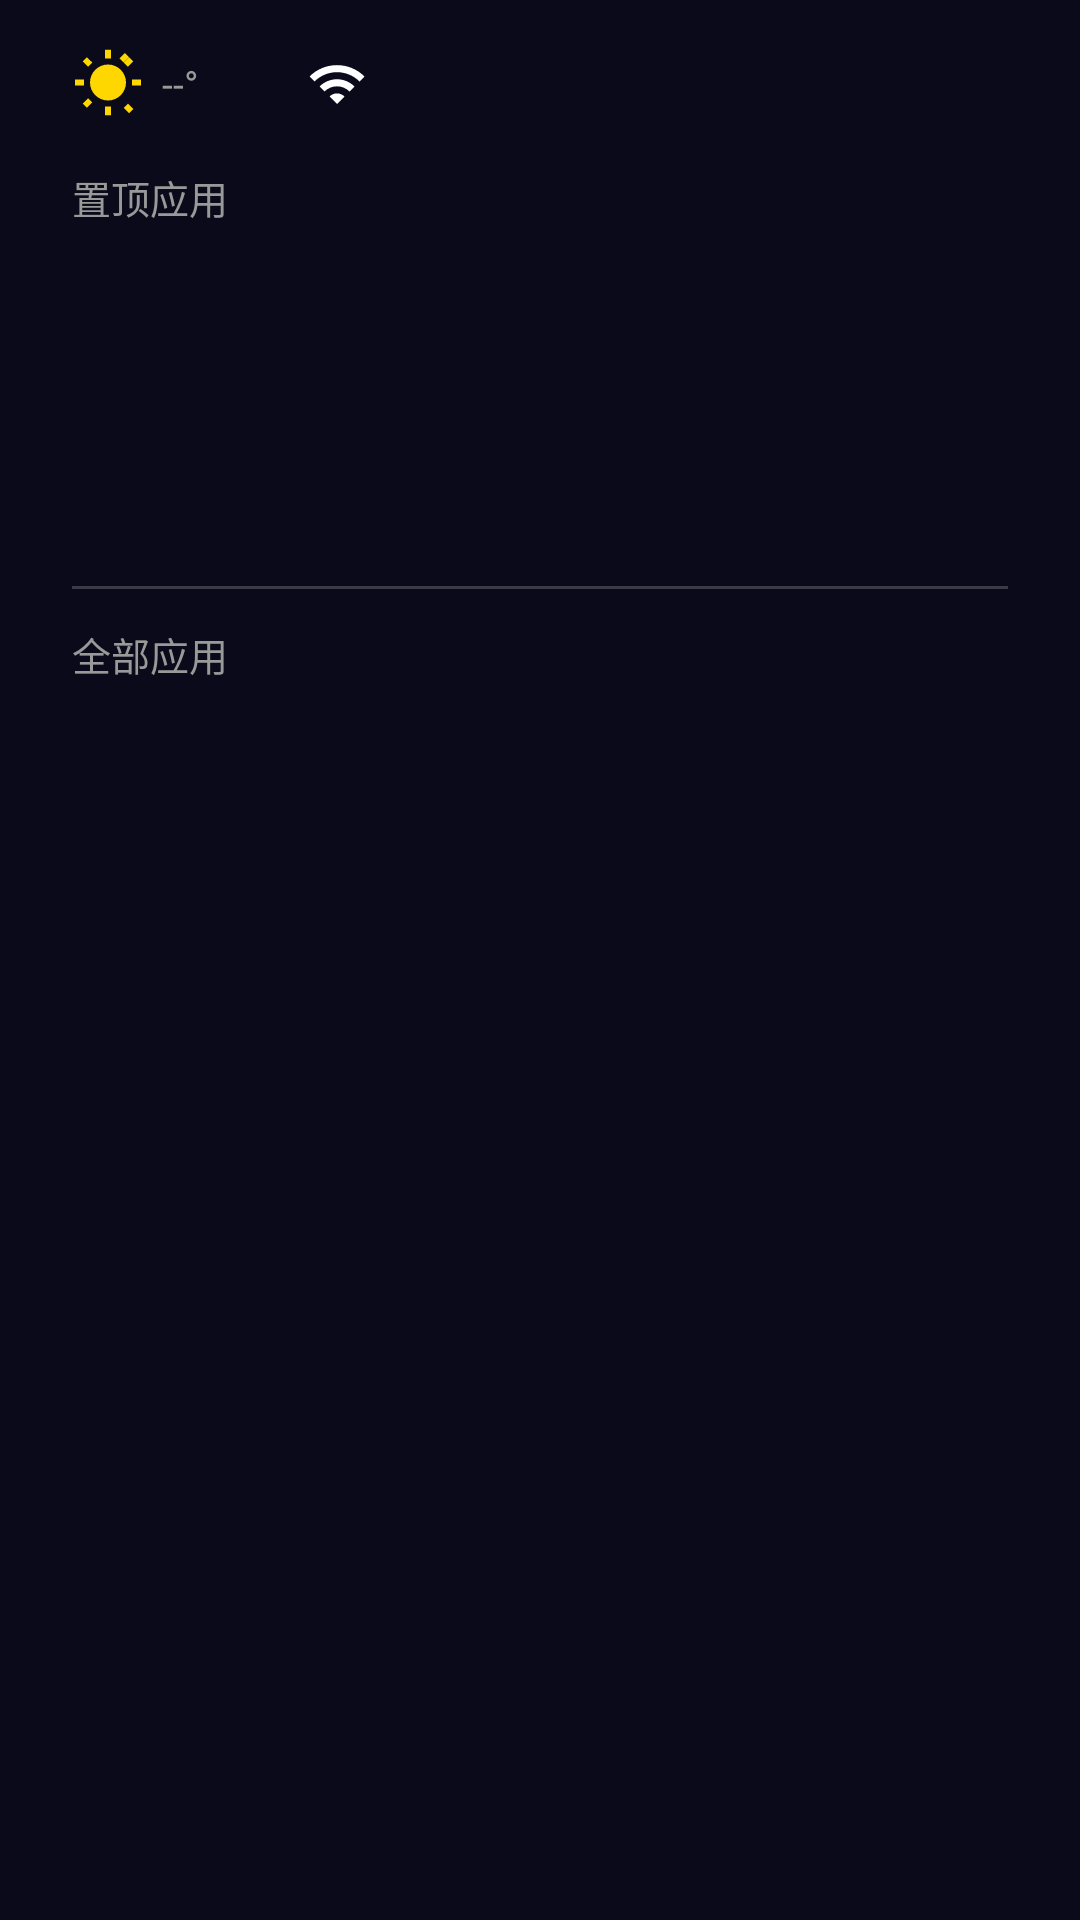

Screen size 1080px x 1920px. Icon name, then its box in pixels as (x1, y1, x2, y2):
weather sunny: (75, 49, 141, 116)
wifi on: (309, 65, 365, 104)
